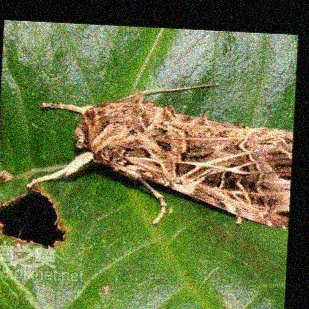Spodoptera litura: (28, 79, 292, 225)
